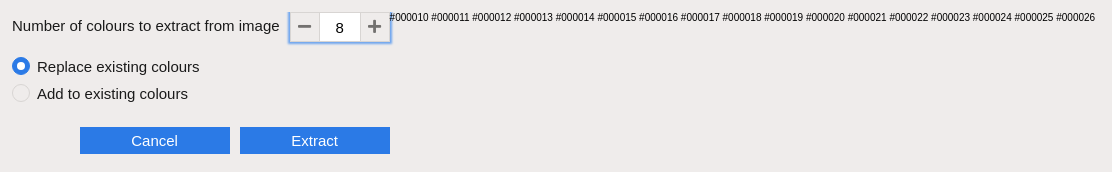
Test case: Image colour extractor component › resets number of colours when add selected and value exceeds maximum
Replace the text in the number field with test id "ImageColourExtractor Number Input" with "19". click: (340, 27)
box: [320,12,360,42]
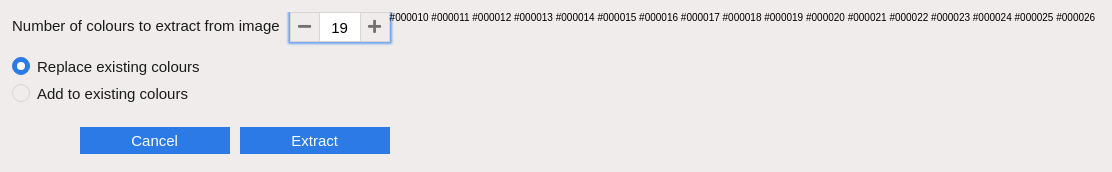
Click the radio button with test id "ImageColourExtractor Add Colours". click: (100, 95)
box: [12,85,188,104]
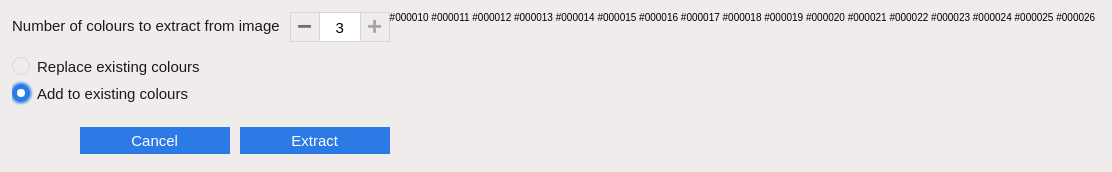
Expected: the number field with test id "ImageColourExtractor Number Input" holds "3", [320,12,360,42]
